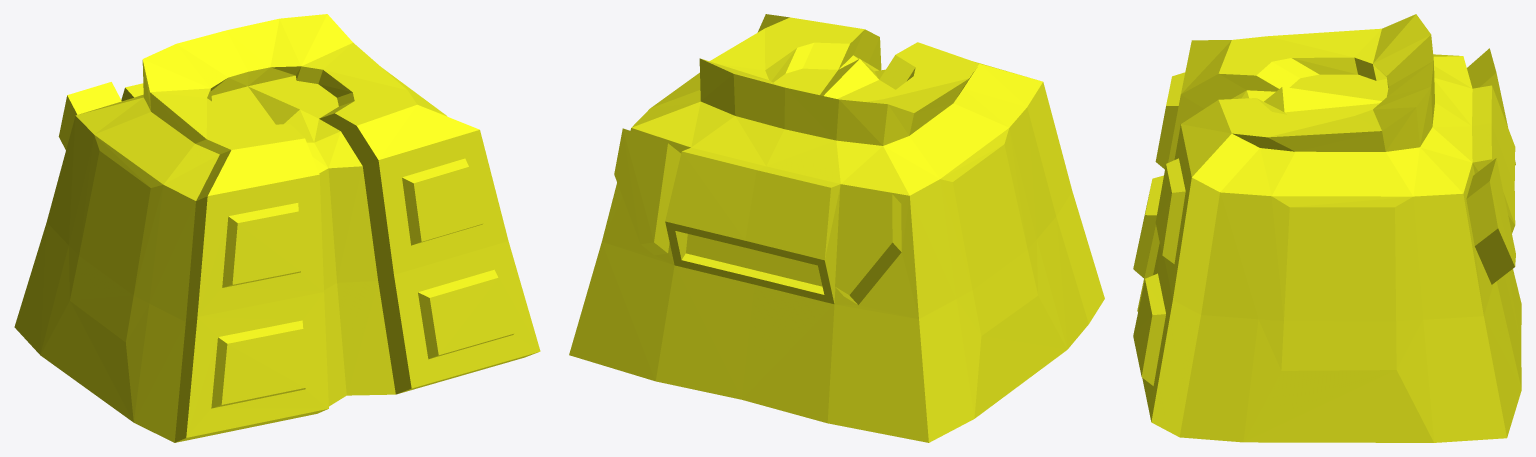
Rendered from armar_body.FBX.
The picture shows the model from 3 angles, left to right: view 1: azimuth 30°, elevation 25°; view 2: azimuth 150°, elevation 25°; view 3: azimuth 270°, elevation 25°; orthographic projection. The views are drawn at different scales.
Parts seen in each view (by area): view 1: body; view 2: body; view 3: body.
Part boxes in pixels (x1,y1,x2,y2): body: (14, 14, 540, 442); body: (569, 14, 1104, 442); body: (1133, 14, 1521, 442).
Size of the model in its own units: 17.37 by 12.48 by 15.22.
